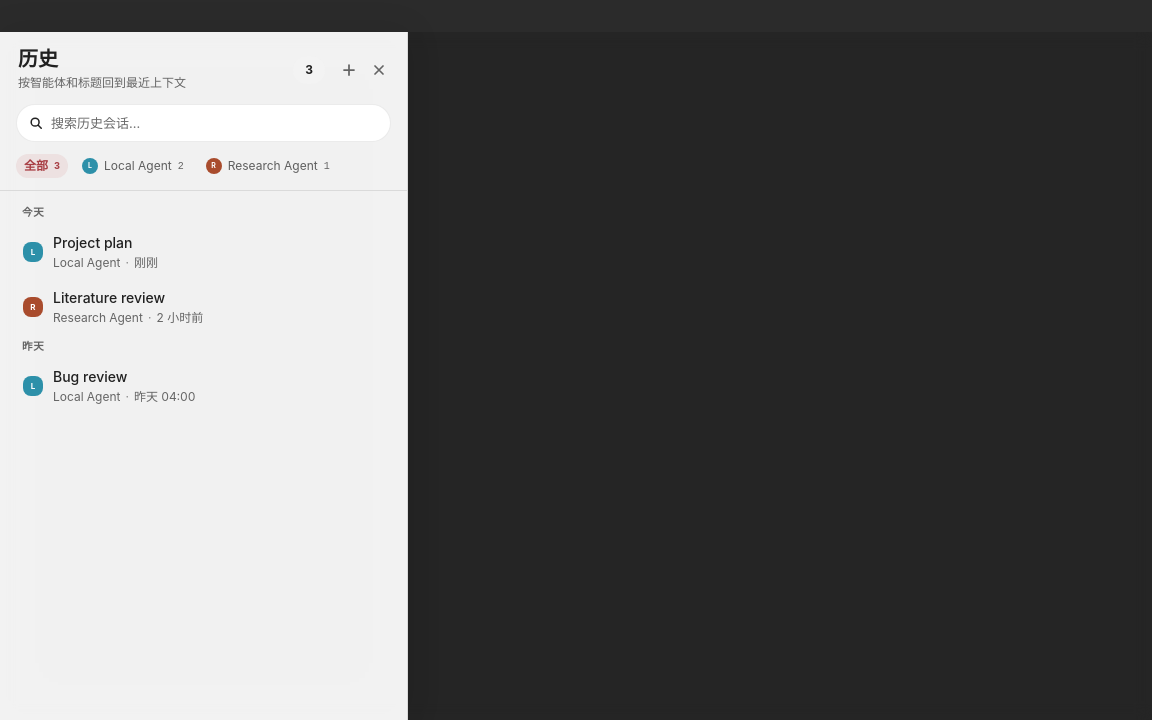
it: HistoryDrawer — agent filter chips › filter and search compose — pinned agent + matching title only
The width and height of the screenshot is (1152, 720).
Step 1. Click the button "L Local Agent 2" → (133, 166), box [74,154,192,178]
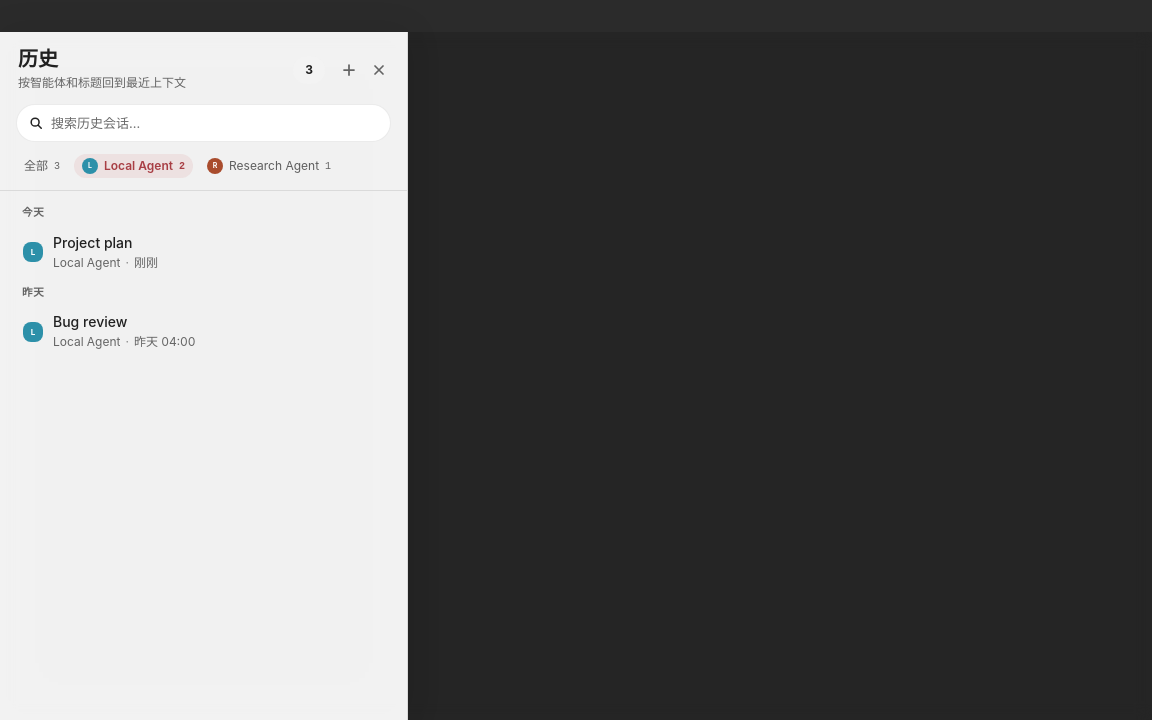
Step 2. Type "project" into the field with placeholder "搜索历史会话…" → (218, 123), box [51,114,386,133]
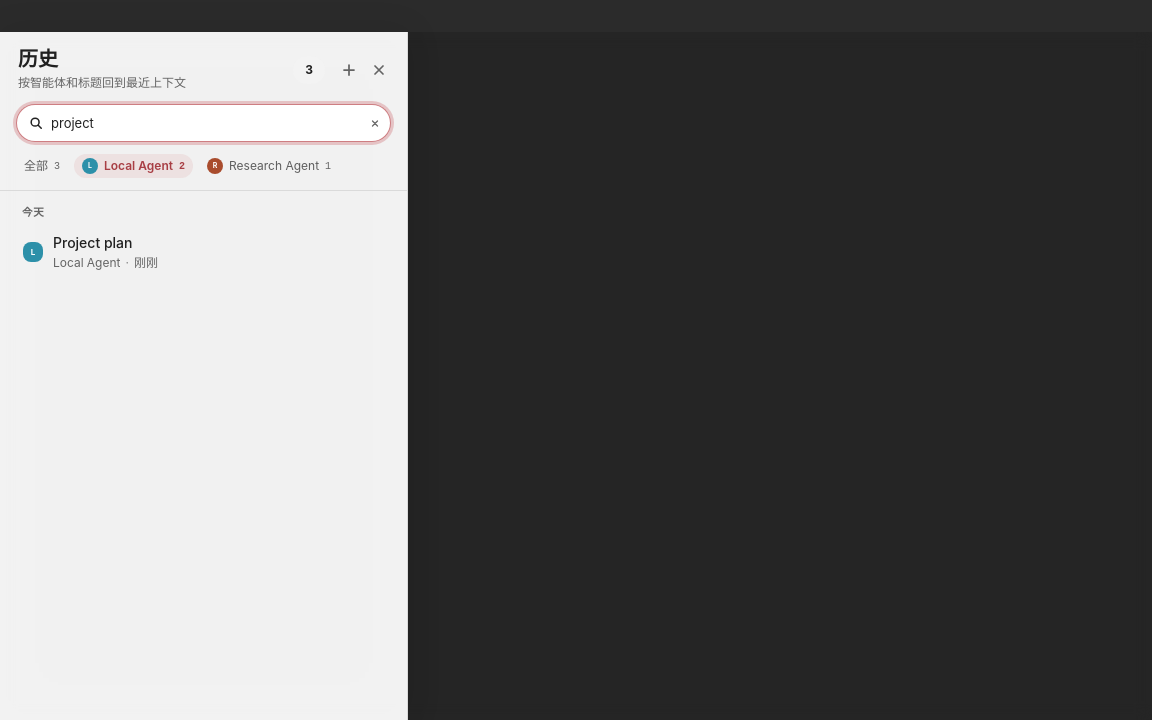
Check: the text "Project plan" is shown, box [53,234,132,251]
Check: the button "Bug review" is gone
